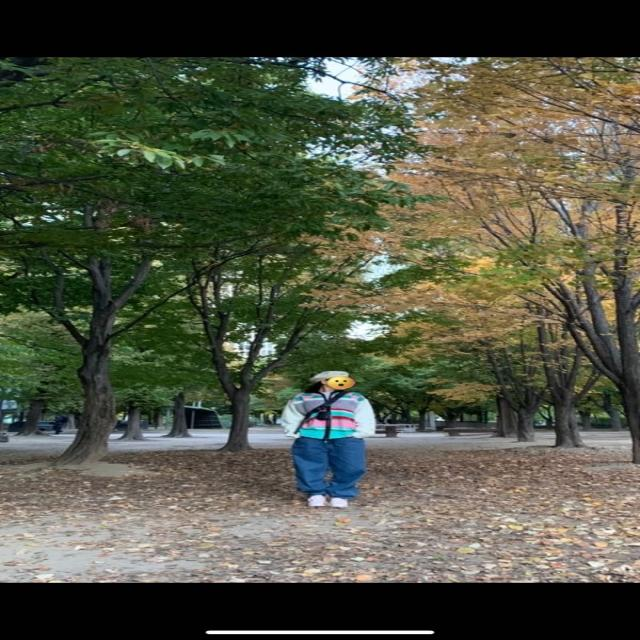cardigan: (280, 390, 378, 440)
denimpants: (290, 434, 367, 499)
